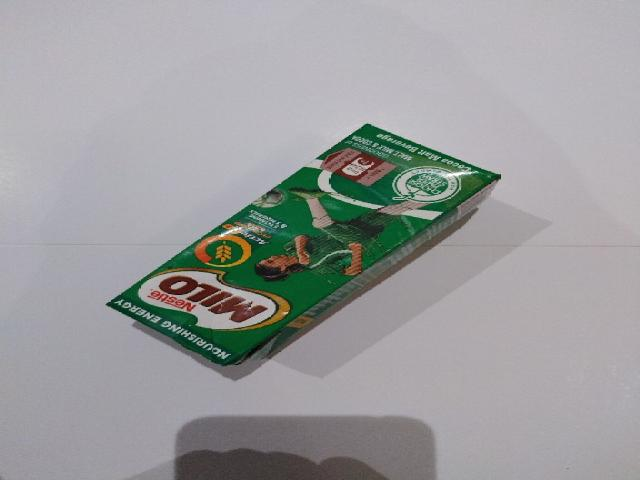drink_box: (108, 124, 500, 365)
